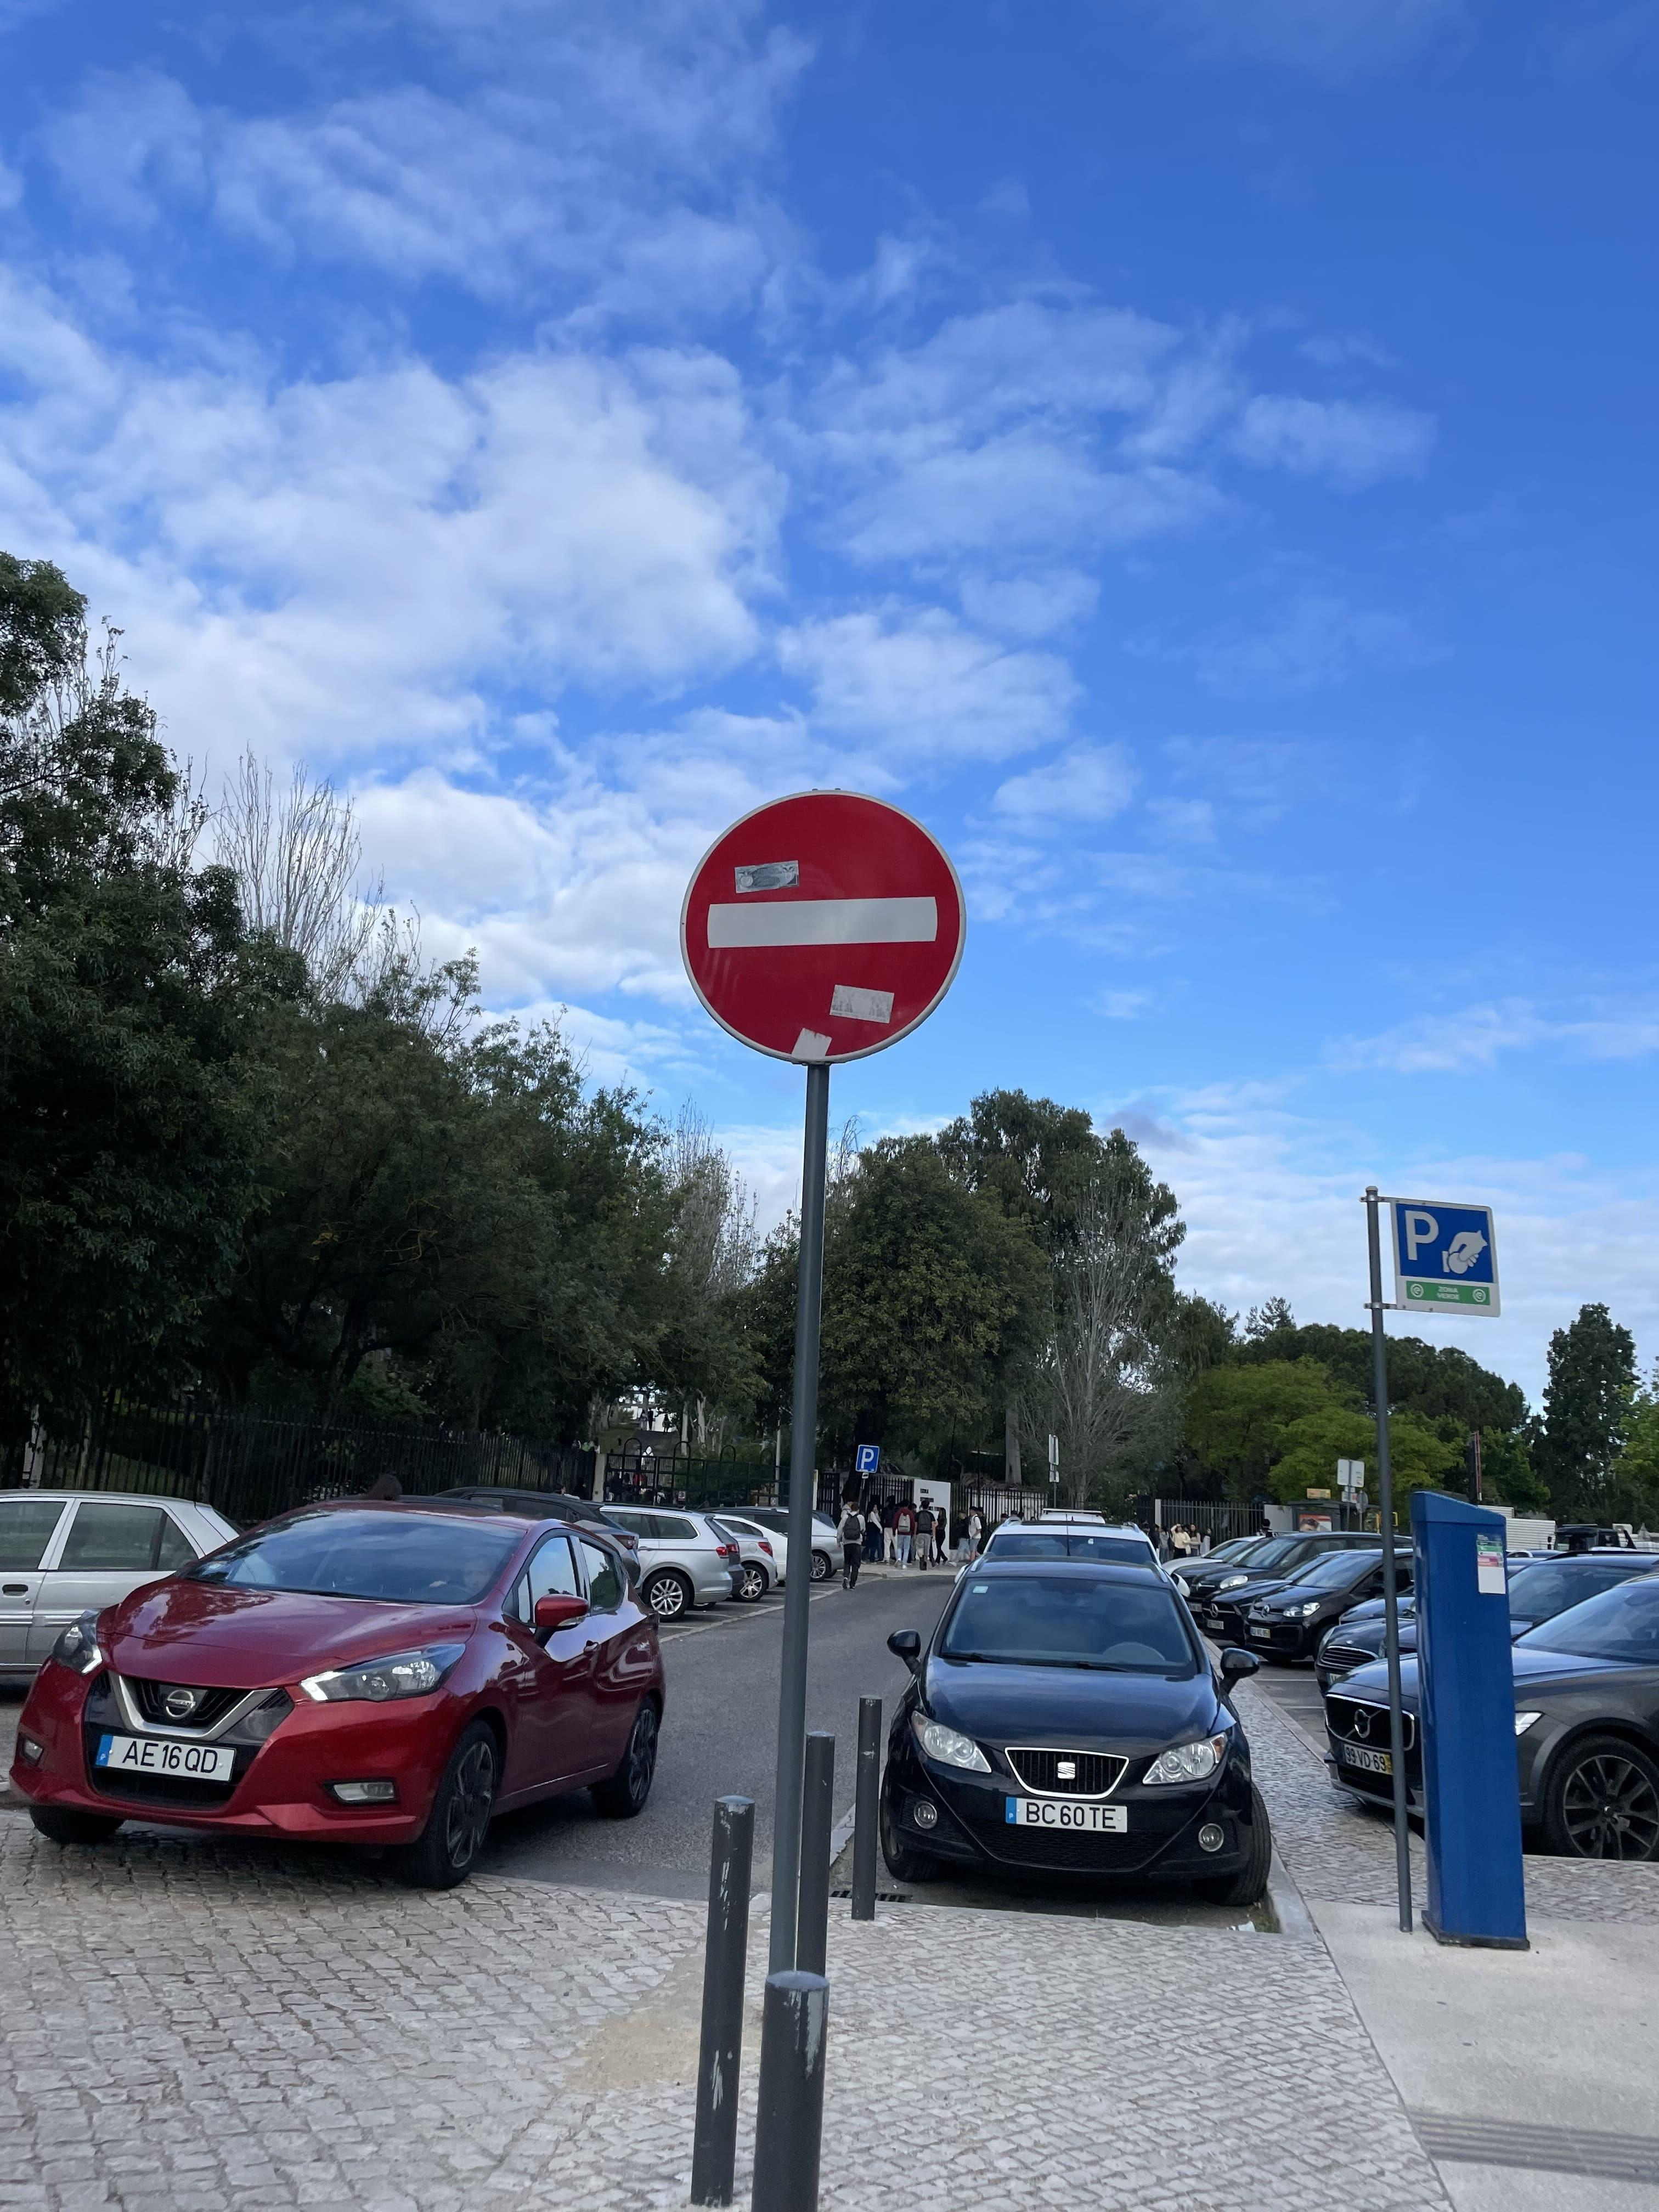Sentido proibido: (697, 812, 950, 1075)
